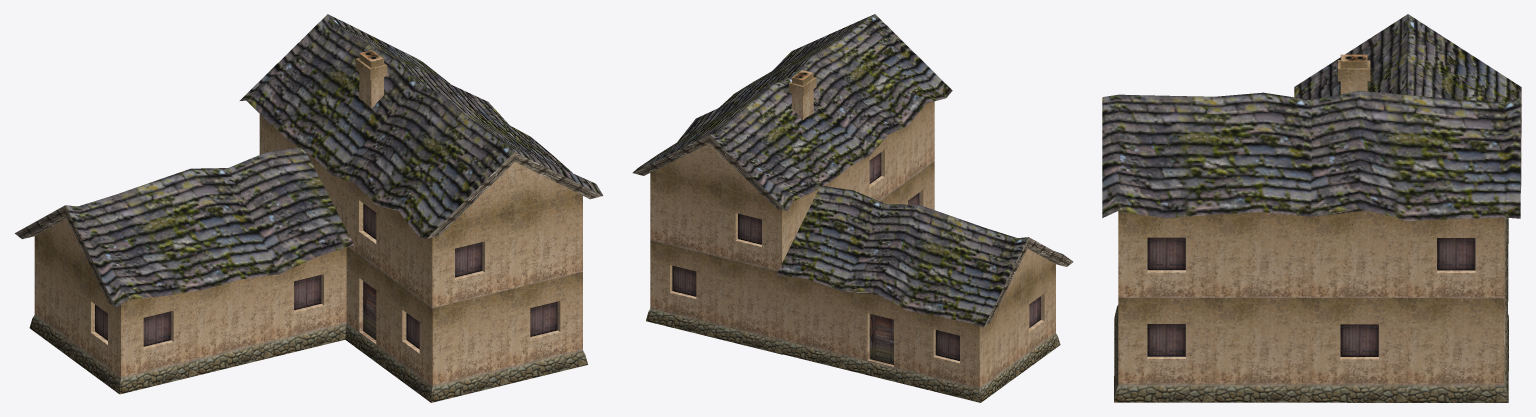
File: s44_b_house_2_5.dae
The picture shows the model from 3 angles, left to right: view 1: azimuth 30°, elevation 25°; view 2: azimuth 150°, elevation 25°; view 3: azimuth 270°, elevation 25°; orthographic projection. The views are drawn at different scales.
Visible parts, largest first — view 1: Untitled; view 2: Untitled; view 3: Untitled.
Boxes of the visible parts, x1,y1,x2,y2 form: Untitled: [15, 14, 603, 402]; Untitled: [632, 14, 1073, 402]; Untitled: [1102, 14, 1521, 402].
Bounding box in the file's own units: 128 × 104 × 78.3.
Materials: 1 (1 with a texture image).
